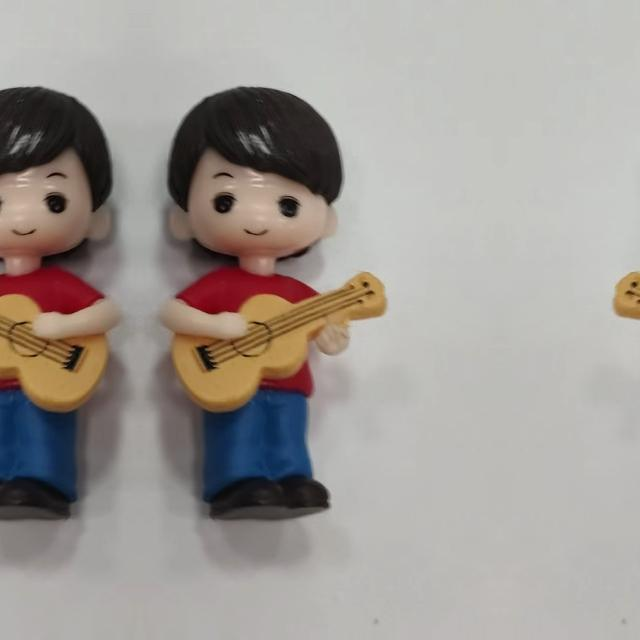man cloth: (172, 268, 346, 397), (0, 267, 107, 396)
man head: (165, 78, 348, 268), (0, 77, 114, 268)
trousers: (200, 382, 336, 520), (0, 381, 80, 520)
